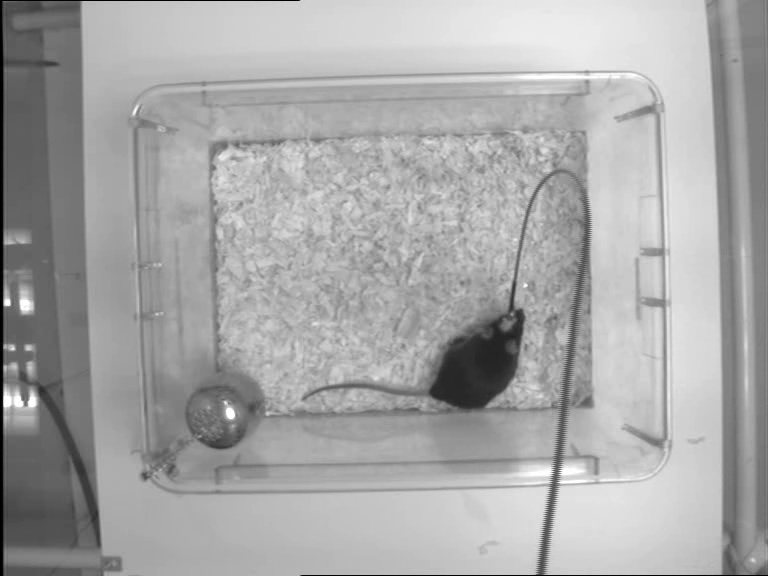mice: (298, 306, 528, 414)
